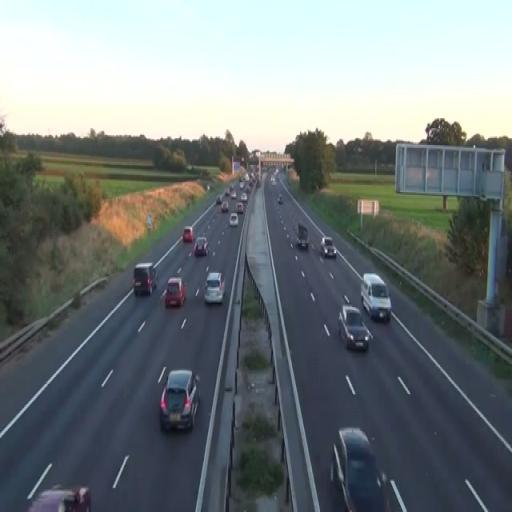Car: (330, 426, 387, 512), (158, 366, 201, 433), (338, 304, 372, 353), (360, 273, 392, 323), (132, 262, 158, 296), (204, 270, 226, 304), (165, 277, 186, 308), (320, 236, 337, 259), (194, 237, 208, 257), (229, 214, 238, 228)
